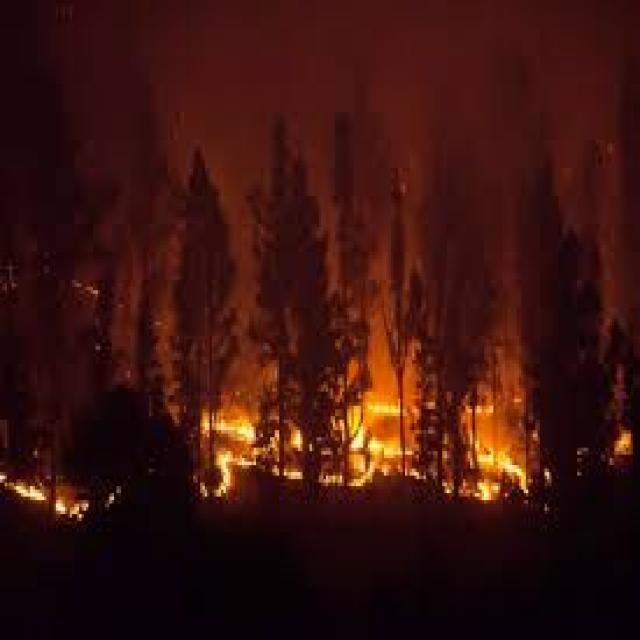Fire: (466, 406, 538, 513), (354, 392, 418, 495), (199, 412, 269, 504), (4, 474, 50, 512), (282, 432, 308, 479), (610, 430, 637, 464), (54, 501, 67, 518)
